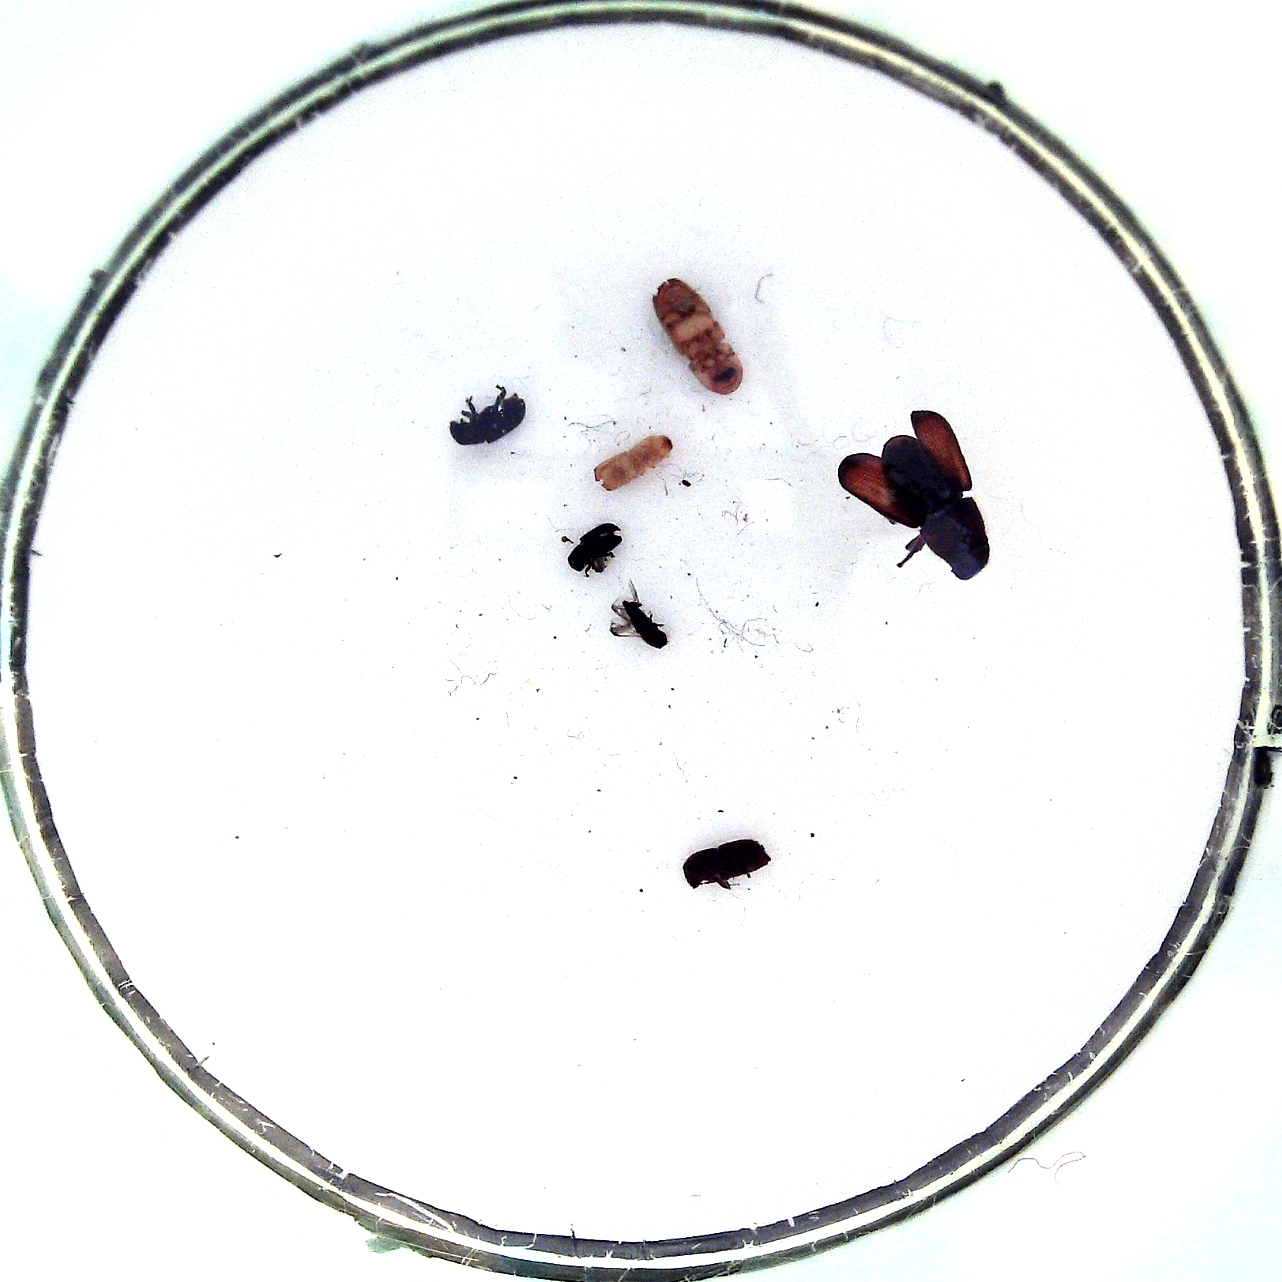Boerner: (653, 278, 743, 394)
Leconte: (882, 434, 990, 581)
acuminatus: (623, 599, 668, 650)
armandi: (448, 393, 525, 446)
coleoptera: (568, 522, 622, 572)
linnaeus: (594, 434, 672, 493), (683, 839, 771, 890)
